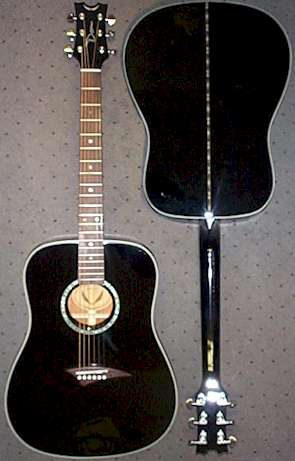guitar: (5, 3, 178, 458), (122, 1, 293, 458)
